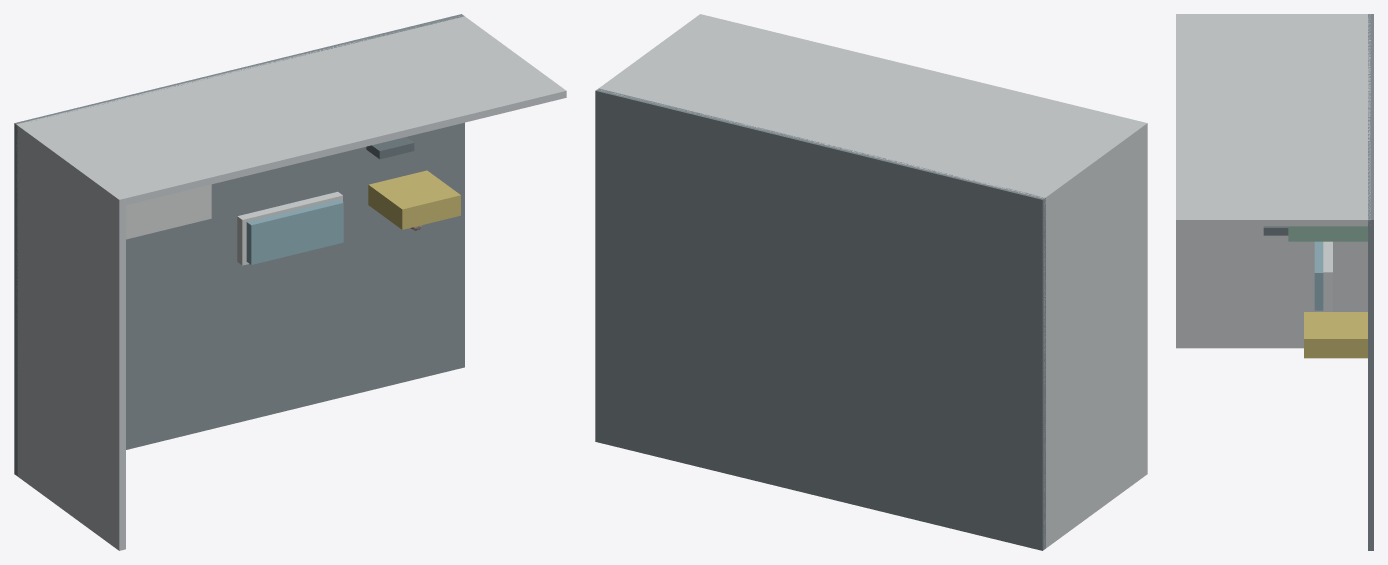
The model's file is pediatrics-room-high.glb.
3 views of the same model, side by side, from view 1: azimuth 30°, elevation 25°; view 2: azimuth 150°, elevation 25°; view 3: azimuth 270°, elevation 25° (orthographic). The views are drawn at different scales.
Parts seen in each view (by area): view 1: floor, wall_back, wall_left, pediatric_mattress, play_shelf, exam_table, pediatric_bed, monitor; view 2: floor, wall_back, wall_left; view 3: wall_back, wall_left, floor, play_shelf, supplies_cabinet, pediatric_bed, pediatric_mattress, monitor.
Part boxes in pixels (box(x1,y1,x2,y2)): floor: box(14, 14, 464, 476); wall_back: box(16, 16, 566, 206); wall_left: box(16, 122, 125, 550); pediatric_mattress: box(246, 199, 343, 264); play_shelf: box(368, 170, 460, 229); exam_table: box(126, 184, 211, 239); pediatric_bed: box(237, 191, 342, 265); monitor: box(366, 137, 414, 159); floor: box(595, 88, 1045, 550); wall_back: box(598, 14, 1147, 204); wall_left: box(1040, 122, 1147, 548); wall_back: box(1176, 14, 1370, 226); wall_left: box(1176, 14, 1367, 348); floor: box(1368, 14, 1373, 550); play_shelf: box(1304, 312, 1367, 358); supplies_cabinet: box(1288, 226, 1367, 241); pediatric_bed: box(1323, 241, 1332, 311); pediatric_mattress: box(1314, 241, 1323, 310); monitor: box(1263, 226, 1288, 235).
Bounding box in the file's own units: 8 × 6 × 3.25.
